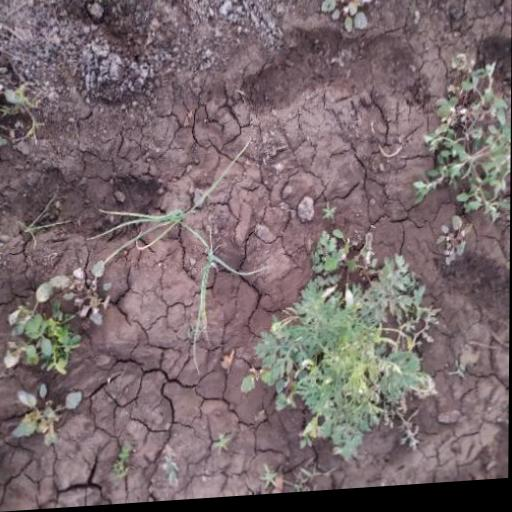weed: (235, 233, 444, 474), (96, 153, 261, 265), (4, 274, 111, 441), (429, 62, 510, 229)
